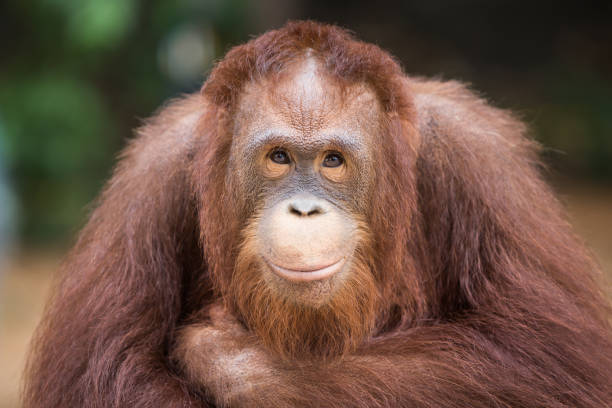chimpanzee: (161, 12, 462, 362)
